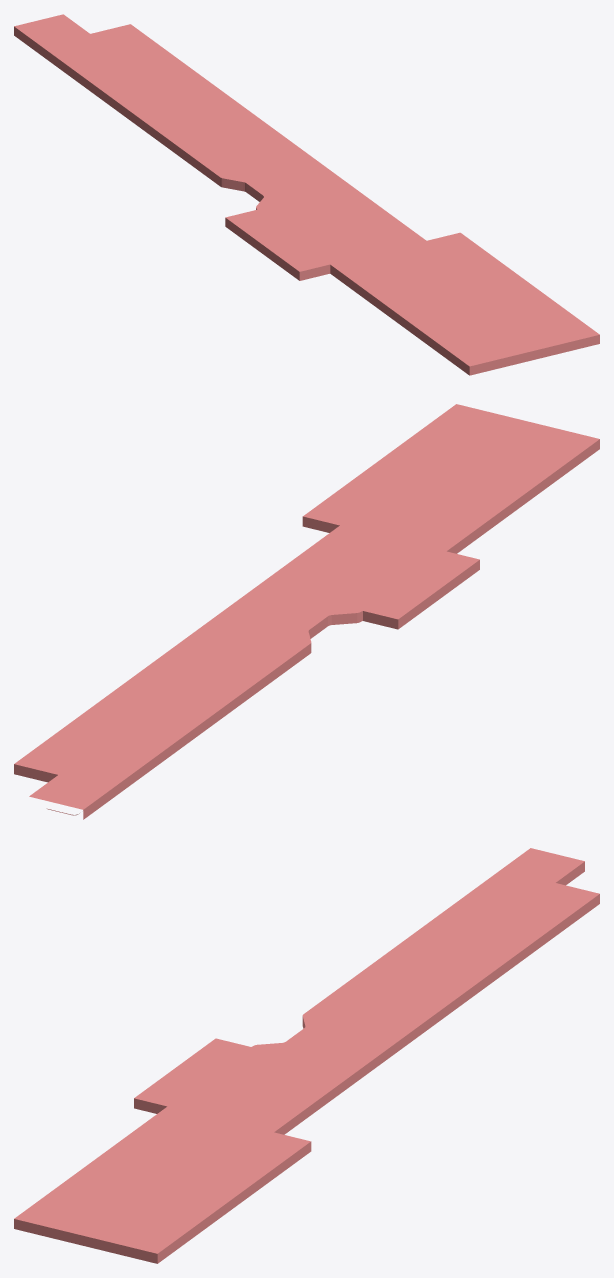
File: S_Envi_FZFBase_Roof_02i.gltf
3 views of the same model, one above another, from view 1: azimuth 30°, elevation 25°; view 2: azimuth 150°, elevation 25°; view 3: azimuth 330°, elevation 25° (orthographic). The views are drawn at different scales.
Parts seen in each view (by area): view 1: S_Envi_FZFBase_Roof_02i; view 2: S_Envi_FZFBase_Roof_02i; view 3: S_Envi_FZFBase_Roof_02i.
Part boxes in pixels (box(x1,y1,x2,y2)): S_Envi_FZFBase_Roof_02i: box(14, 14, 599, 375); S_Envi_FZFBase_Roof_02i: box(14, 404, 599, 819); S_Envi_FZFBase_Roof_02i: box(14, 848, 599, 1263).
Bounding box in the file's own units: 8.72 × 0.5591 × 43.4.
